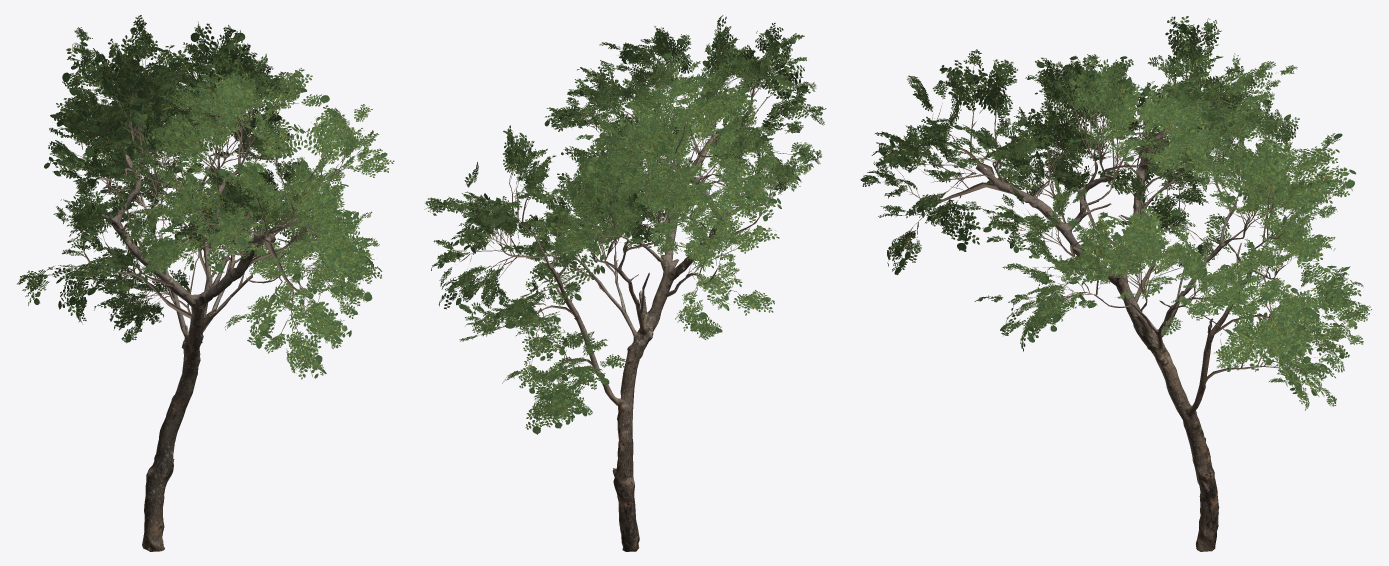
3 renders of one model, left to right at view 1: azimuth 30°, elevation 25°; view 2: azimuth 150°, elevation 25°; view 3: azimuth 270°, elevation 25°, orthographic. The views are drawn at different scales.
Parts seen in each view (by area): view 1: tree_small_02_lod0; view 2: tree_small_02_lod0; view 3: tree_small_02_lod0.
Part boxes in pixels (x1=…): tree_small_02_lod0: x1=17, y1=15, x2=394, y2=551; tree_small_02_lod0: x1=424, y1=15, x2=826, y2=551; tree_small_02_lod0: x1=860, y1=16, x2=1371, y2=551.
Bounding box in the file's own units: 2.95 × 4.57 × 4.33.
3 materials, 3 textured.
